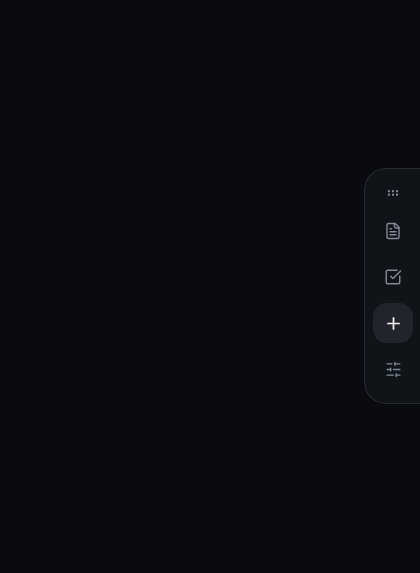
Scenario: App (fluxos integrados do dock) › gerencia tarefas e sincroniza badge de pendentes no botão da barra
The image size is (420, 573).
Step 1. Click the button named "Tarefas e follow-ups" → x=393, y=277, box [373,257,413,297]
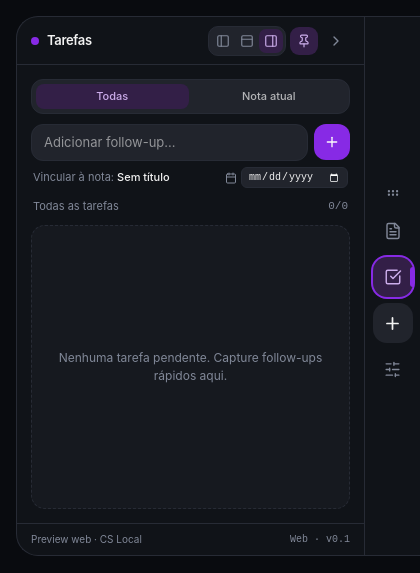
Step 2. Type "Enviar proposta" into the field with placeholder "Adicionar follow-up..." → x=170, y=142, box [31,124,308,161]
Then press Enter
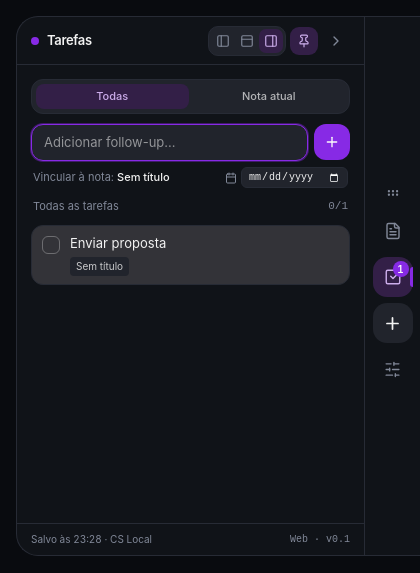
Step 3. Type "Confirmar kickoff" into the field with placeholder "Adicionar follow-up..." → x=170, y=142, box [31,124,308,161]
Then press Enter
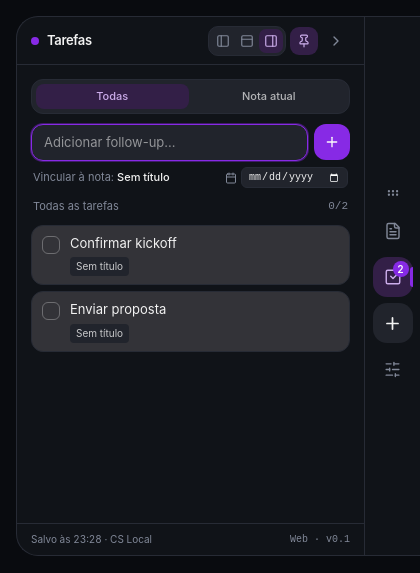
Check: the text "0/2" is shown, box [328,198,348,214]
Check: the text "2" is shown, box [392,261,408,277]
Step 4. Click the button named "Concluir tarefa" next to "Confirmar kickoff" → x=51, y=244, box [42,236,60,254]
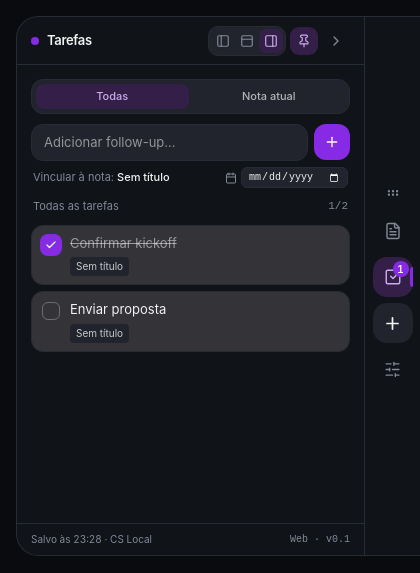
Check: the text "1" is shown, box [392,261,408,277]
Check: the text "1/2" is shown, box [328,198,348,214]
